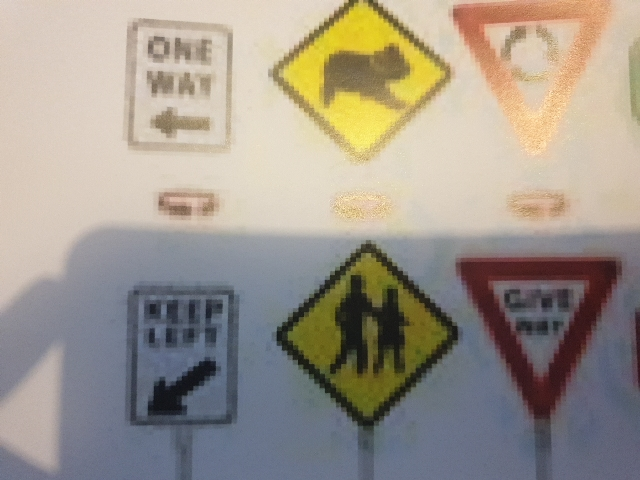giveway: (448, 254, 626, 402)
